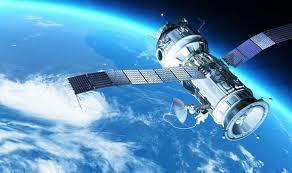antenna: (170, 96, 188, 124)
body: (153, 18, 270, 144)
solar: (66, 64, 208, 95), (220, 20, 292, 70)
